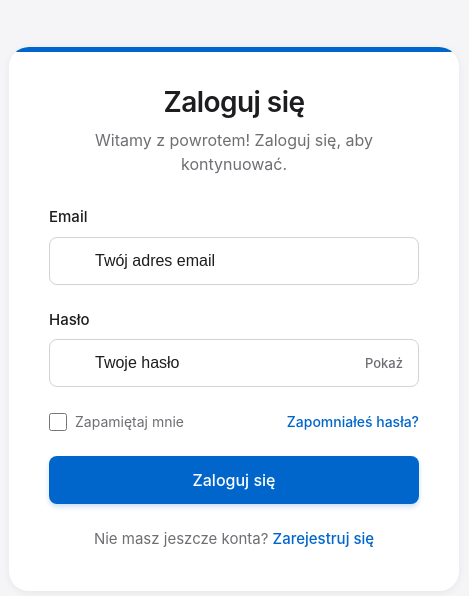
Test: <LoginPage /> › shows API error message on failed login
The image size is (469, 596).
Type "a@b.com" into the field labelled "Email" at coordinates (234, 261), box [49,237,419,285]
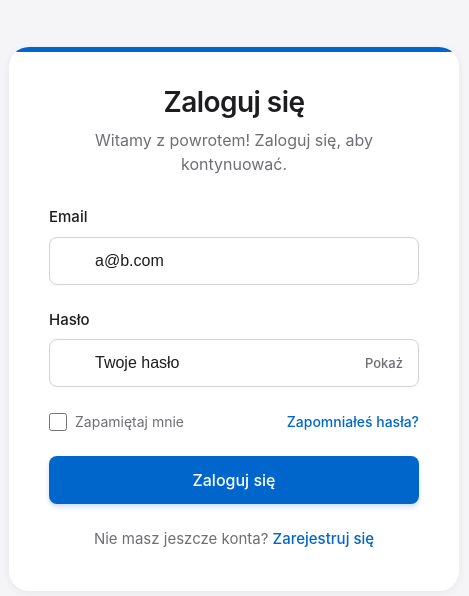
Type "pw" into the password field labelled "Hasło" at coordinates (234, 363), box [49,339,419,387]
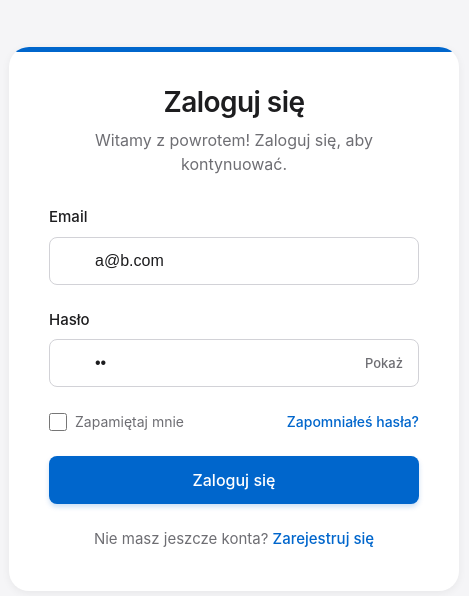
Click the button "Zaloguj się" at coordinates (234, 480), box [49,456,419,504]
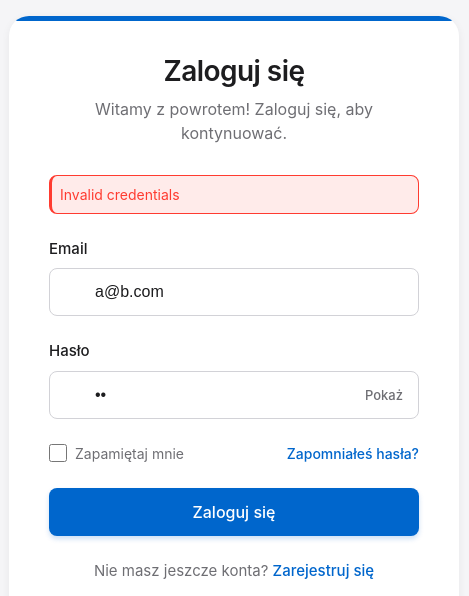
Expected: the button "Zaloguj się" is enabled, [49,488,419,536]
Expected: the text "Invalid credentials" is shown, [49,175,419,214]
